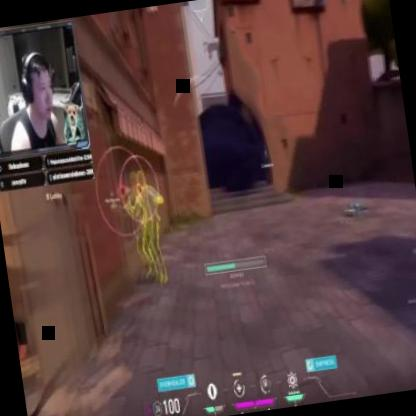enemy: (123, 167, 175, 287)
enemy_head: (135, 171, 147, 188)
